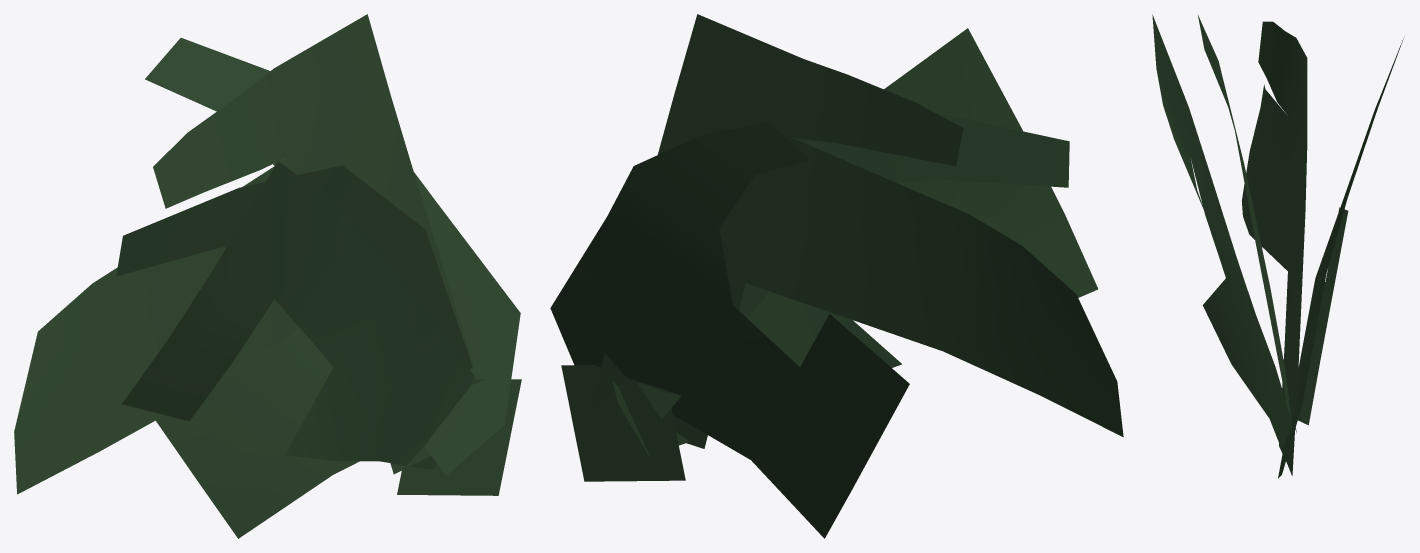
The model's file is SM_ocean_scatterPlant_02_E.fbx.
3 views of the same model, side by side, from view 1: azimuth 30°, elevation 25°; view 2: azimuth 150°, elevation 25°; view 3: azimuth 270°, elevation 25° (orthographic). The views are drawn at different scales.
Parts seen in each view (by area): view 1: SM_ocean_scatterPlant_02_E_LOD0; view 2: SM_ocean_scatterPlant_02_E_LOD0; view 3: SM_ocean_scatterPlant_02_E_LOD0.
Boxes of the visible parts, left/top/right/bottom form: SM_ocean_scatterPlant_02_E_LOD0: left=14, top=14, right=521, bottom=538; SM_ocean_scatterPlant_02_E_LOD0: left=550, top=14, right=1123, bottom=538; SM_ocean_scatterPlant_02_E_LOD0: left=1152, top=14, right=1404, bottom=478.
Size of what is drawn, in the model's own units: 40.11 by 19.14 by 35.91.
